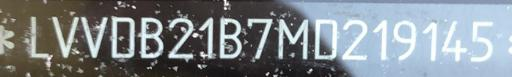letter: (272, 17, 312, 62), (108, 13, 138, 62), (243, 14, 273, 61), (166, 15, 196, 62), (388, 18, 422, 59), (338, 19, 370, 62), (216, 15, 244, 62), (78, 15, 108, 58), (310, 17, 340, 60), (466, 20, 496, 63), (51, 15, 79, 60), (24, 14, 50, 61), (138, 15, 164, 60), (441, 18, 467, 63), (368, 18, 390, 59), (196, 16, 216, 61), (420, 19, 440, 64)
